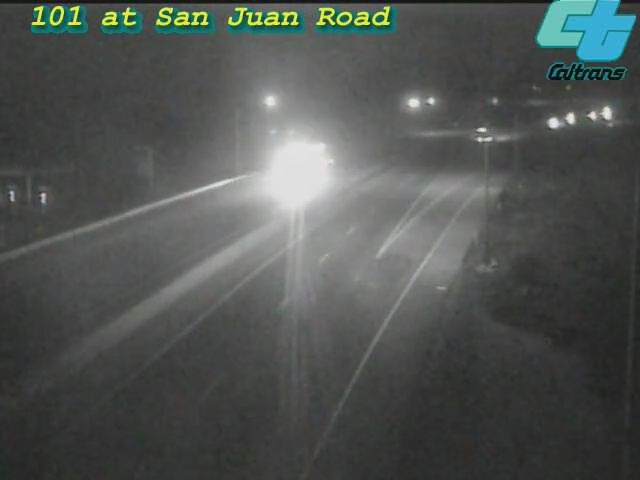vehicle: (256, 128, 336, 208), (529, 99, 579, 149), (460, 109, 510, 159), (543, 93, 593, 143), (581, 87, 631, 137), (567, 91, 617, 141)
